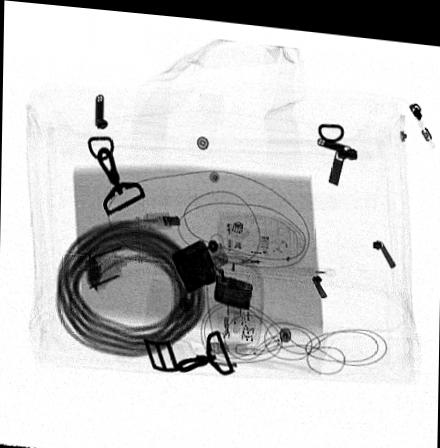Lighter: (171, 233, 254, 306)
